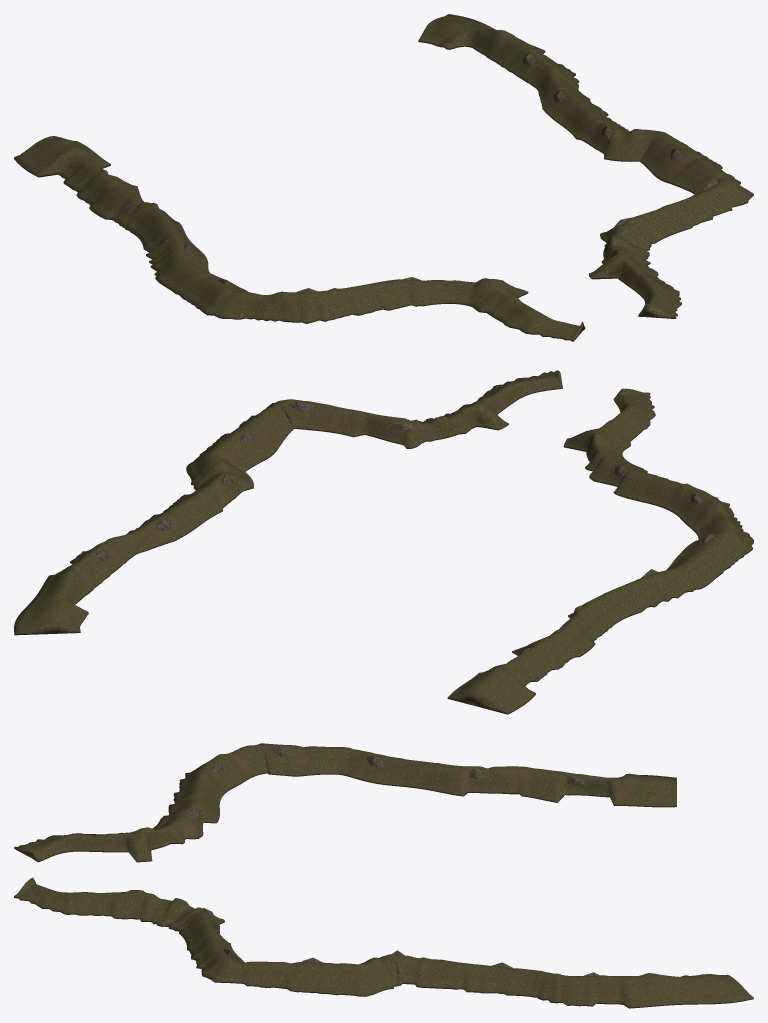
The model's file is level_camp_boundary_banks_grounded.glb.
The picture shows the model from 3 angles, top to bottom: view 1: azimuth 30°, elevation 25°; view 2: azimuth 150°, elevation 25°; view 3: azimuth 270°, elevation 25°; orthographic projection. The views are drawn at different scales.
Visible parts, largest first — view 1: level_camp_boundary_banks_grounded; view 2: level_camp_boundary_banks_grounded; view 3: level_camp_boundary_banks_grounded.
Part boxes in pixels (bbox=[...]): level_camp_boundary_banks_grounded: bbox=[14, 14, 753, 341]; level_camp_boundary_banks_grounded: bbox=[14, 370, 753, 714]; level_camp_boundary_banks_grounded: bbox=[14, 743, 753, 1008].
Bounding box in the file's own units: 65.85 × 5.16 × 83.79.
6 materials, 6 textured.
